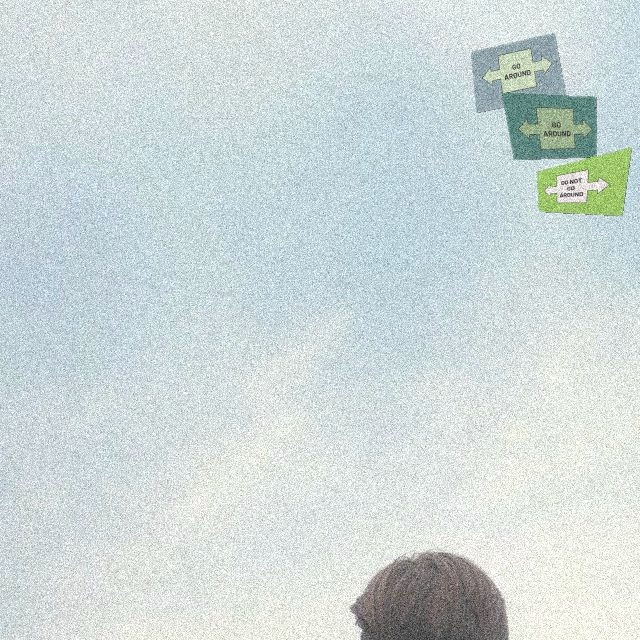DO_NOT_GO_AROUND: (543, 165, 614, 209)
GO_AROUND: (478, 43, 557, 100), (514, 107, 593, 150)
